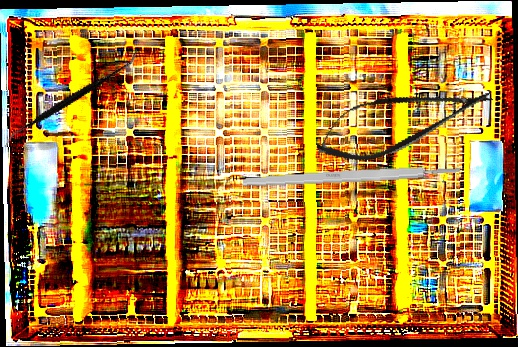Micro Scissor: (308, 68, 500, 173)
Scalpel Handle: (242, 164, 461, 189)
Spatula Surgical: (1, 14, 140, 182)
